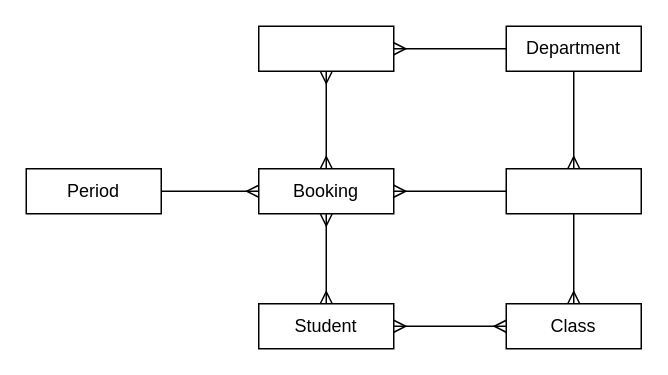
Image size: 668x375. Some labels were removed from this diagram. The shapes that lost their labels are listed below. From the top down, each one's box as (x1, y1, x2, y2) in pixels, then its label:
(257, 25, 394, 71): Room
(505, 167, 641, 214): Teacher
